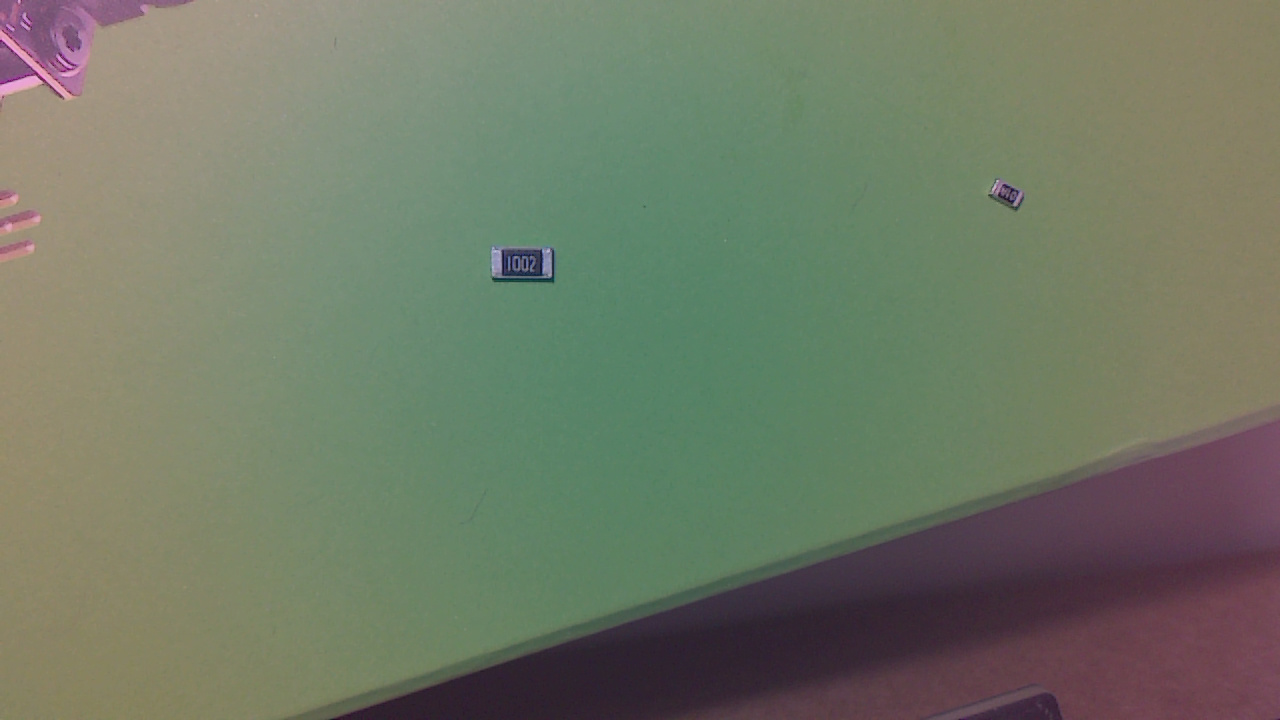Resistor: (494, 250, 561, 287), (992, 185, 1032, 216)
